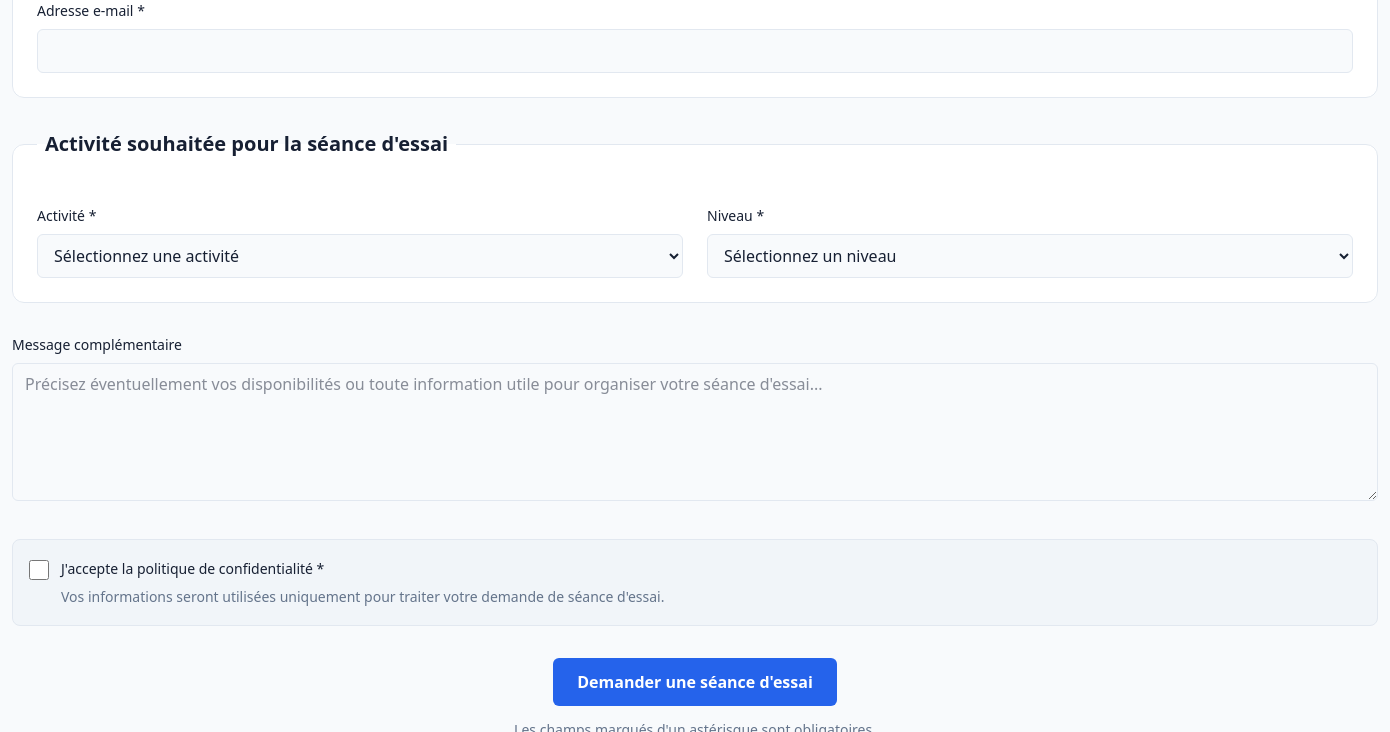
Test: RegistrationForm › refuse une soumission vide
(page scrolled)
Click the button "Demander une séance d'essai". click: (695, 682)
box: [553,658,837,706]
(page scrolled)
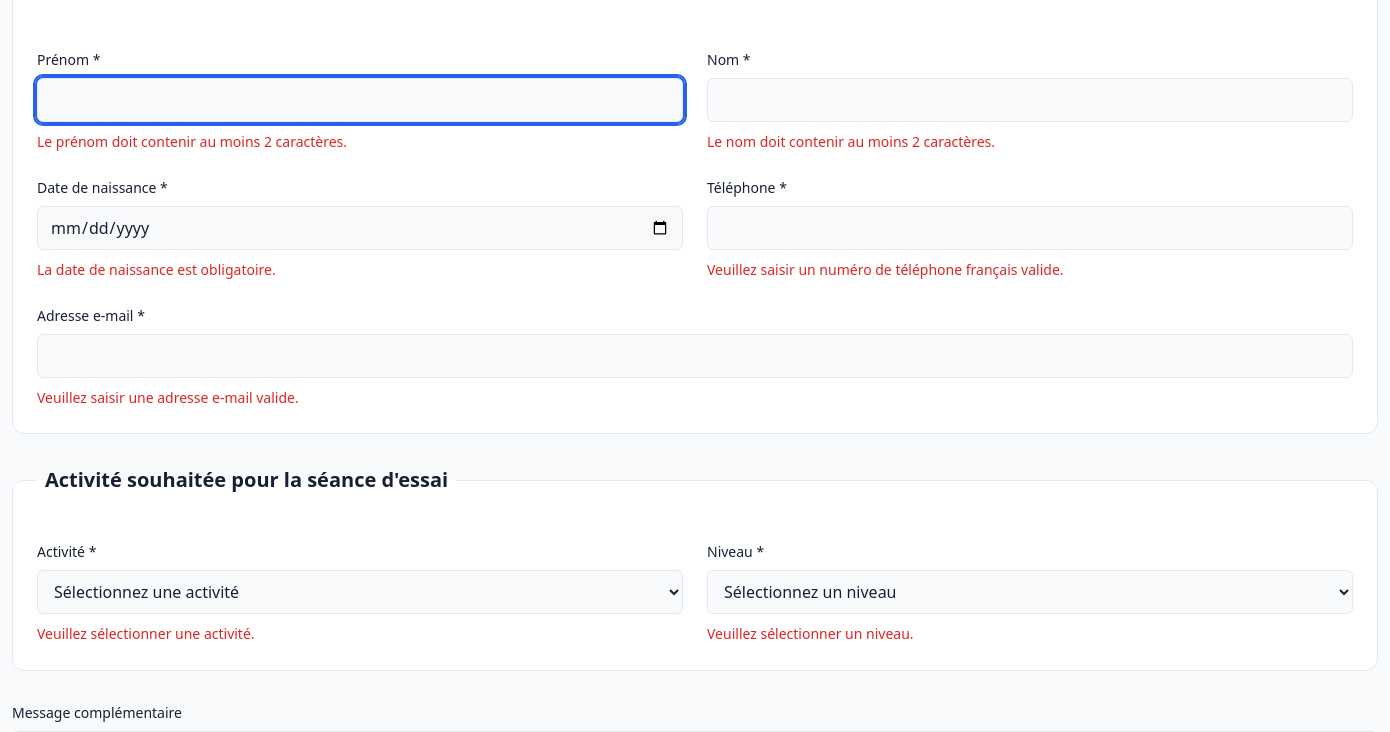
Expected: the text "Le prénom doit contenir au moins 2 caractères." is shown, [37,132,347,151]
